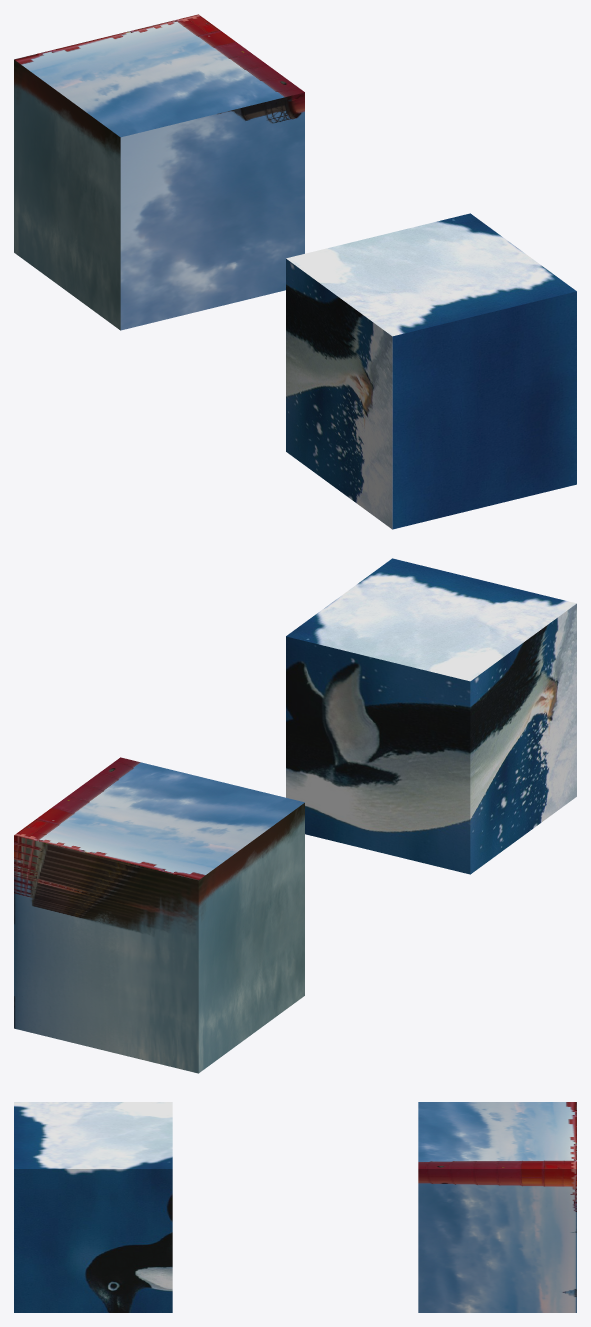
File: MultiMeshTest.obj
The picture shows the model from 3 angles, top to bottom: view 1: azimuth 30°, elevation 25°; view 2: azimuth 150°, elevation 25°; view 3: azimuth 270°, elevation 25°; orthographic projection. The views are drawn at different scales.
Parts seen in each view (by area): view 1: 立方体, 立方体.001; view 2: 立方体.001, 立方体; view 3: 立方体, 立方体.001.
Boxes of the visible parts, box(x1,y1,x2,y2) form: 立方体: box(286, 213, 576, 529); 立方体.001: box(14, 14, 304, 330); 立方体.001: box(14, 757, 304, 1073); 立方体: box(286, 558, 576, 874); 立方体: box(14, 1102, 172, 1312); 立方体.001: box(418, 1102, 576, 1312).
Bounding box in the file's own units: 2 × 2 × 7.1.
2 materials, 2 textured.
